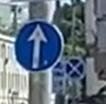Sentido obrigatorio: (12, 12, 65, 71)
